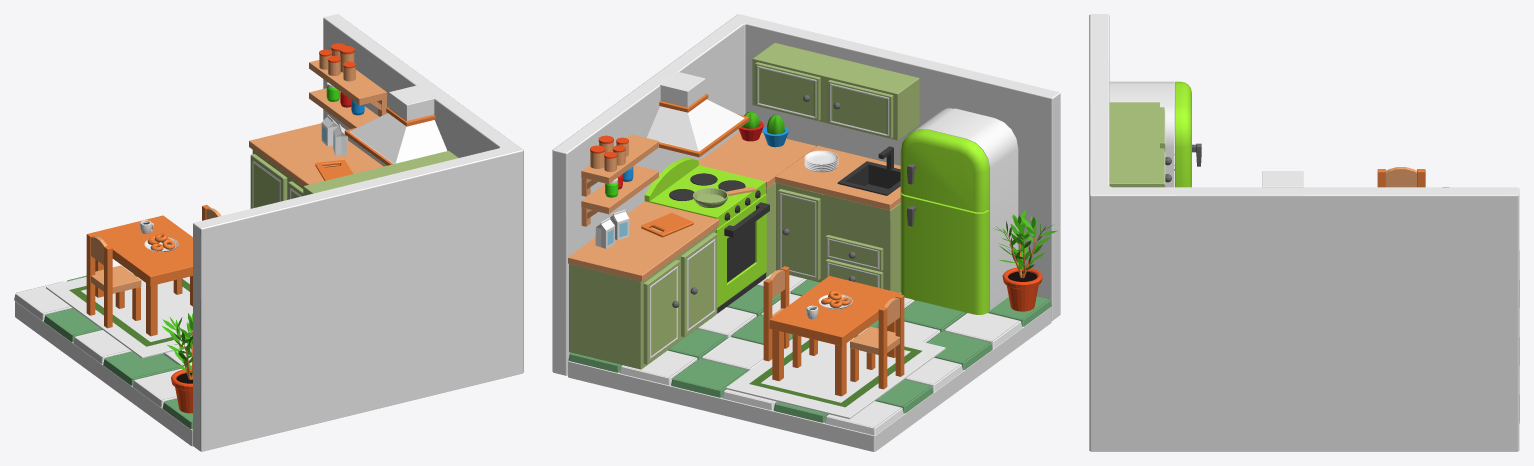
File: kitchen.obj
3 renders of one model, left to right at view 1: azimuth 30°, elevation 25°; view 2: azimuth 150°, elevation 25°; view 3: azimuth 270°, elevation 25°, orthographic. The views are drawn at different scales.
Visible parts, largest first — view 1: Wall_Cube.003, Floor_tile_Cube.001, Counter_Icosphere, Carpet_Cube.057, Table_Cube.051, Hood_Cube.063, Floor_Cube, Chair.001_Cube.061, Plant_Cylinder.018, Wall_shelf_Icosphere.005, Hang_shelf.001_Cube.050, Wood_jar_Cylinder.006 (+3 smaller); view 2: Wall_Cube.003, Fridge_Cube.018, Floor_tile_Cube.001, Counter_Icosphere, Counter_with_sink_Cube.041, Wall_shelf_Icosphere.005, Stove_Cube.053, Floor_Cube, Carpet_Cube.057, Table_Cube.051, Hood_Cube.063, Counter_corner_Cube.021 (+12 smaller); view 3: Wall_Cube.003, Wall_shelf_Icosphere.005, Fridge_Cube.018, Chair.001_Cube.061, Hood_Cube.063.
Part boxes in pixels (left/top/right/bottom): Wall_Cube.003: left=193, top=14, right=523, bottom=451; Floor_tile_Cube.001: left=14, top=266, right=192, bottom=429; Counter_Icosphere: left=249, top=123, right=383, bottom=208; Carpet_Cube.057: left=46, top=267, right=192, bottom=358; Table_Cube.051: left=92, top=215, right=192, bottom=336; Hood_Cube.063: left=344, top=85, right=447, bottom=165; Floor_Cube: left=15, top=301, right=192, bottom=446; Chair.001_Cube.061: left=86, top=233, right=141, bottom=328; Plant_Cylinder.018: left=162, top=313, right=192, bottom=413; Wall_shelf_Icosphere.005: left=303, top=151, right=458, bottom=195; Hang_shelf.001_Cube.050: left=309, top=60, right=386, bottom=116; Wood_jar_Cylinder.006: left=319, top=43, right=355, bottom=81; Wall_Cube.003: left=552, top=14, right=1060, bottom=375; Fridge_Cube.018: left=900, top=108, right=1018, bottom=314; Floor_tile_Cube.001: left=568, top=271, right=1051, bottom=435; Counter_Icosphere: left=568, top=201, right=718, bottom=369; Counter_with_sink_Cube.041: left=775, top=145, right=900, bottom=292; Wall_shelf_Icosphere.005: left=752, top=43, right=919, bottom=140; Stove_Cube.053: left=644, top=157, right=769, bottom=313; Floor_Cube: left=568, top=307, right=1051, bottom=451; Carpet_Cube.057: left=726, top=328, right=945, bottom=419; Table_Cube.051: left=769, top=276, right=901, bottom=396; Hood_Cube.063: left=646, top=72, right=749, bottom=157; Counter_corner_Cube.021: left=698, top=132, right=815, bottom=277; Wall_Cube.003: left=1089, top=14, right=1519, bottom=451; Wall_shelf_Icosphere.005: left=1109, top=102, right=1171, bottom=187; Fridge_Cube.018: left=1109, top=81, right=1201, bottom=187; Chair.001_Cube.061: left=1377, top=167, right=1425, bottom=187; Hood_Cube.063: left=1262, top=171, right=1303, bottom=187.
Size of the model in its own units: 7.88 by 5.01 by 7.57.
